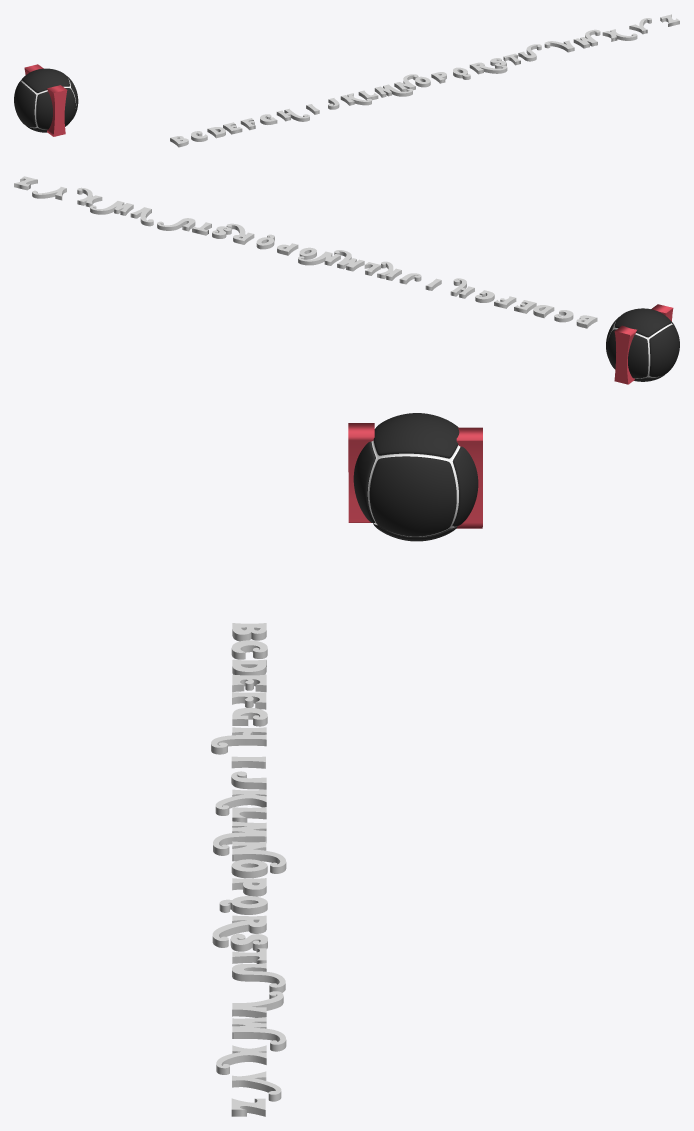
3 views of the same model, one above another, from view 1: azimuth 30°, elevation 25°; view 2: azimuth 150°, elevation 25°; view 3: azimuth 270°, elevation 25° (orthographic). The views are drawn at different scales.
Parts seen in each view (by area): view 1: Cube.001, A, M, W, R, H, X, N, U, K, V; view 2: Cube.001, A.001, W, N, M, U; view 3: Cube.001, A, A.001, W, M, N.
Boxes of the visible parts, <box> form: Cube.001: <box>14,68,78,132</box>; A: <box>47,85,67,136</box>; M: <box>374,84,412,97</box>; W: <box>573,29,600,48</box>; R: <box>469,62,507,74</box>; H: <box>276,108,309,121</box>; X: <box>602,29,637,41</box>; N: <box>394,74,418,91</box>; U: <box>518,44,541,61</box>; K: <box>340,93,371,105</box>; V: <box>544,40,574,52</box>; Cube.001: <box>606,308,679,381</box>; A.001: <box>614,325,636,384</box>; W: <box>90,201,133,215</box>; N: <box>298,251,340,265</box>; M: <box>334,250,364,271</box>; U: <box>157,218,195,231</box>; Cube.001: <box>353,413,478,541</box>; A: <box>348,423,374,522</box>; A.001: <box>456,427,482,528</box>; W: <box>232,1017,286,1051</box>; M: <box>213,821,266,855</box>; N: <box>232,841,286,873</box>.
Bounding box in the file's own units: 1885 × 185 × 361.
